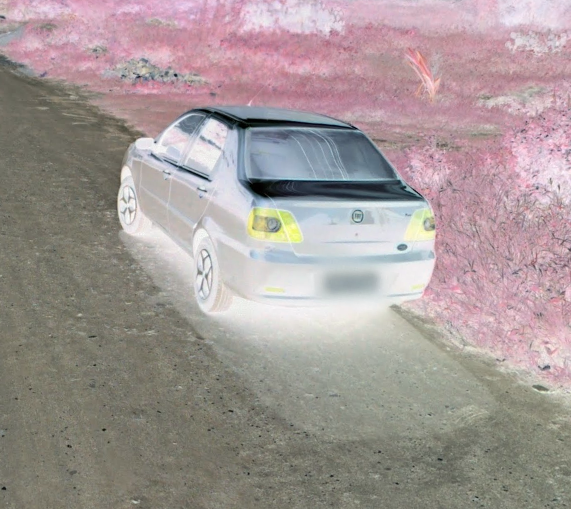car: (112, 76, 441, 319)
